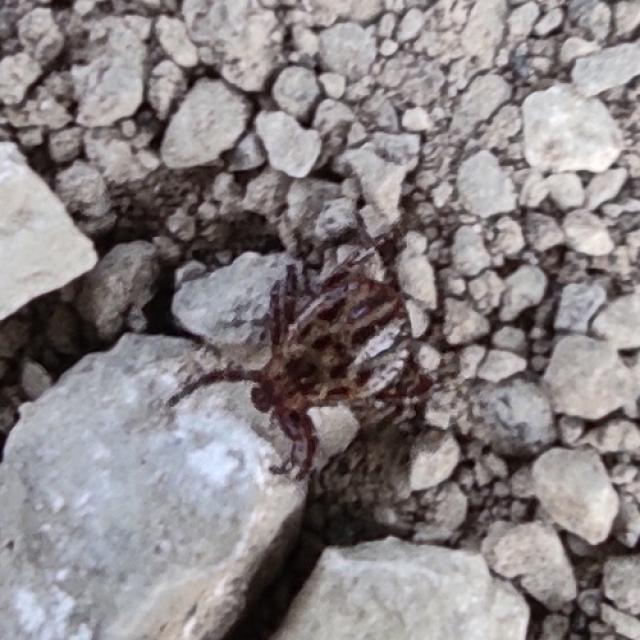Dermacentor Reticulatus-M: (193, 260, 433, 481)
